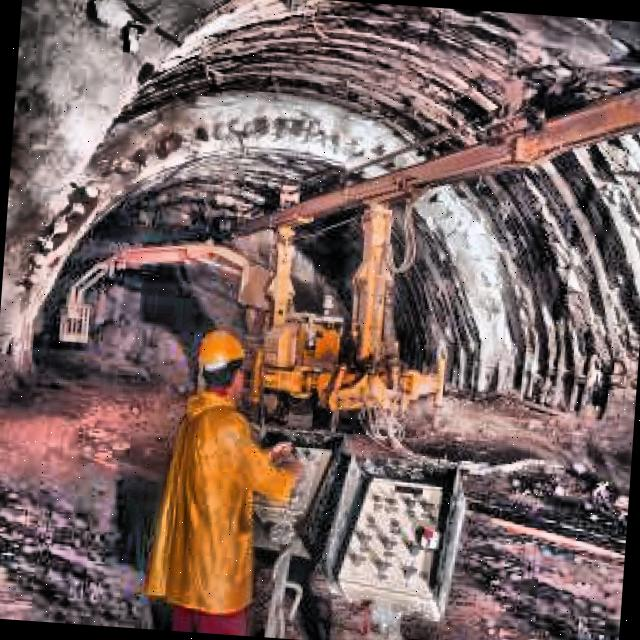helmet: (194, 324, 251, 400)
